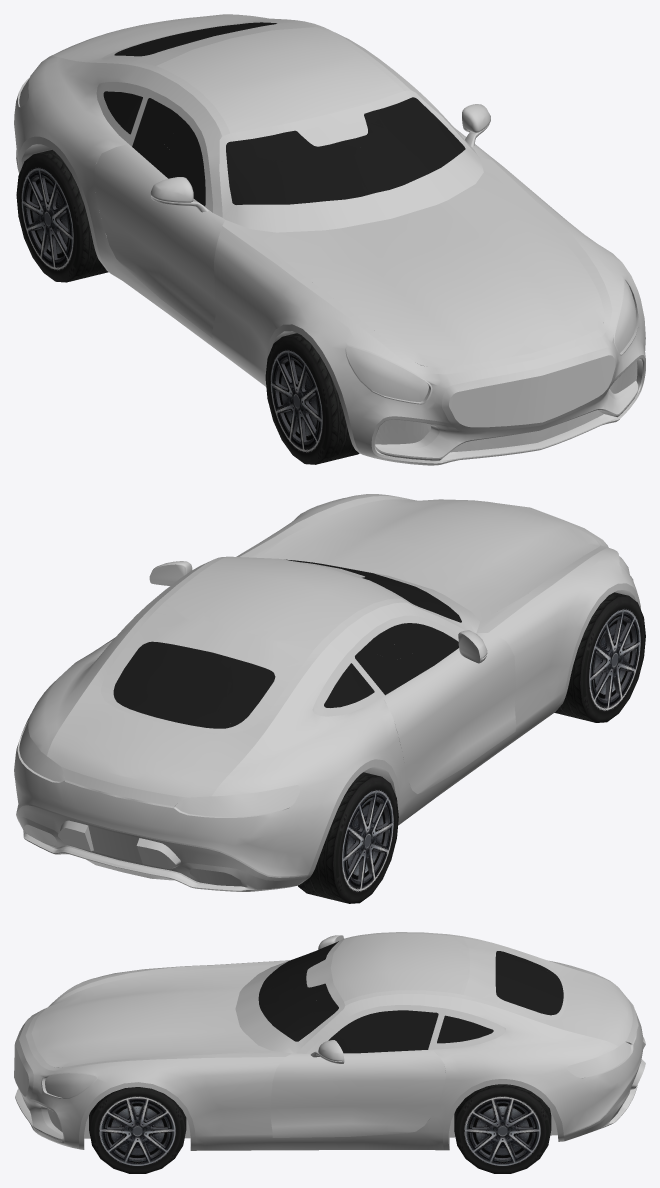
File: Yellow_Car_29.fbx
3 renders of one model, top to bottom at view 1: azimuth 30°, elevation 25°; view 2: azimuth 150°, elevation 25°; view 3: azimuth 270°, elevation 25°, orthographic. The views are drawn at different scales.
Visible parts, largest first — view 1: Body, Y_Hood, Y_Door_R, Glass_Main, Wheel_FR, Wheel_BR, Glass_Right_Door, Glass_Main_cell.015, Glass_Main_cell.020, Glass_Right_Door_cell.004, Y_Door_L, Glass_Main_cell.006; view 2: Body, Y_Hood, Y_Door_R, Wheel_BR, Glass_Main, Wheel_FR, Y_Bumper_rear, Glass_Main_cell.010, Glass_Right_Door, Glass_Main_cell.001, Glass_Right_Door_cell.004, Y_Door_L; view 3: Body, Y_Hood, Y_Door_L, Wheel_BL, Wheel_FL, Glass_Main, Glass_Left_Door, Glass_Main_cell.010, Glass_Main_cell, Glass_Left_Door_cell, Glass_Main_cell.015, Glass_Left_Door_cell.006 (+3 smaller).
Part boxes in pixels (x1,y1,x2,y2): Body: [14, 14, 645, 465]; Y_Hood: [251, 172, 604, 367]; Y_Door_R: [94, 144, 224, 338]; Glass_Main: [103, 22, 465, 204]; Wheel_FR: [265, 333, 359, 464]; Wheel_BR: [16, 150, 108, 282]; Glass_Right_Door: [147, 102, 205, 204]; Glass_Main_cell.015: [306, 145, 428, 202]; Glass_Main_cell.020: [226, 132, 306, 164]; Glass_Right_Door_cell.004: [132, 98, 160, 162]; Y_Door_L: [454, 104, 502, 166]; Glass_Main_cell.006: [343, 121, 413, 156]; Body: [14, 494, 640, 891]; Y_Hood: [258, 499, 599, 621]; Y_Door_R: [381, 630, 516, 793]; Wheel_BR: [298, 772, 398, 903]; Glass_Main: [113, 559, 461, 727]; Wheel_FR: [554, 592, 645, 722]; Y_Bumper_rear: [16, 805, 307, 880]; Glass_Main_cell.010: [162, 650, 235, 728]; Glass_Right_Door: [358, 623, 458, 694]; Glass_Main_cell.001: [231, 659, 275, 707]; Glass_Right_Door_cell.004: [355, 648, 405, 694]; Y_Door_L: [103, 561, 192, 645]; Body: [14, 932, 643, 1150]; Y_Hood: [31, 967, 270, 1067]; Y_Door_L: [270, 1040, 445, 1137]; Wheel_BL: [454, 1084, 551, 1173]; Wheel_FL: [89, 1087, 186, 1173]; Glass_Main: [258, 944, 563, 1042]; Glass_Left_Door: [329, 1010, 438, 1053]; Glass_Main_cell.010: [495, 965, 562, 991]; Glass_Main_cell: [437, 1020, 493, 1043]; Glass_Left_Door_cell: [408, 1012, 435, 1050]; Glass_Main_cell.015: [261, 969, 306, 1019]; Glass_Left_Door_cell.006: [342, 1018, 386, 1051].
Size of the model in its own units: 214 by 477 by 137.
